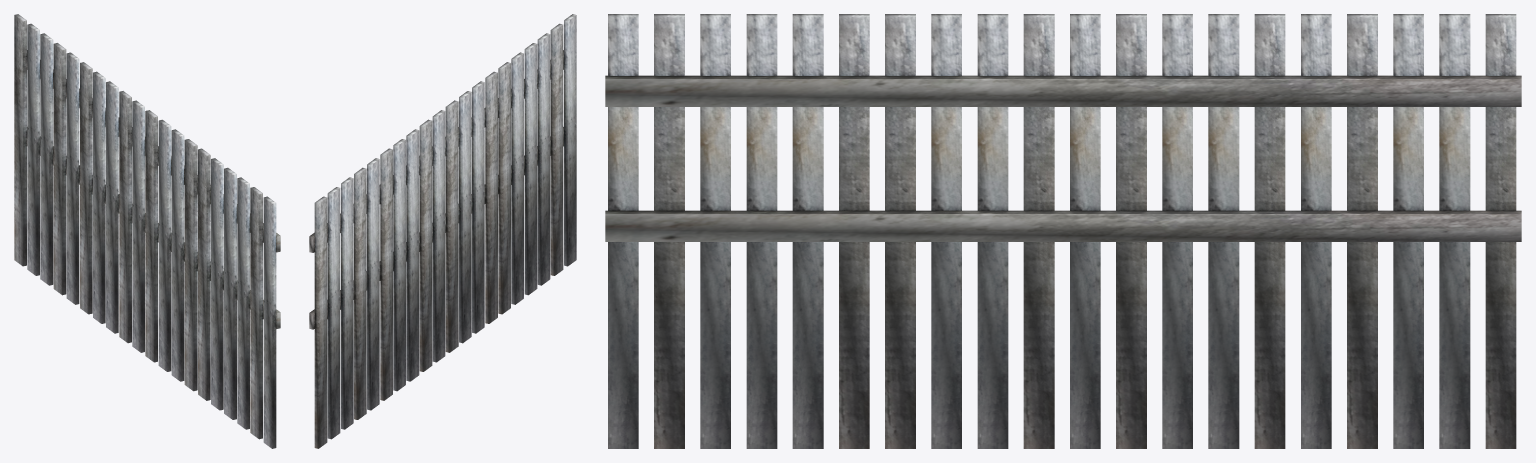
Rendered from WoodFence.fbx.
The picture shows the model from 3 angles, left to right: view 1: azimuth 30°, elevation 25°; view 2: azimuth 150°, elevation 25°; view 3: azimuth 270°, elevation 25°; orthographic projection. The views are drawn at different scales.
Parts seen in each view (by area): view 1: Plank1; view 2: Plank1; view 3: Plank1.
Part boxes in pixels (box(x1,y1,x2,y2)): Plank1: box(14, 14, 280, 448); Plank1: box(309, 14, 576, 448); Plank1: box(605, 14, 1521, 448).
Size of the model in its own units: 0.0657 by 2 by 3.85.
